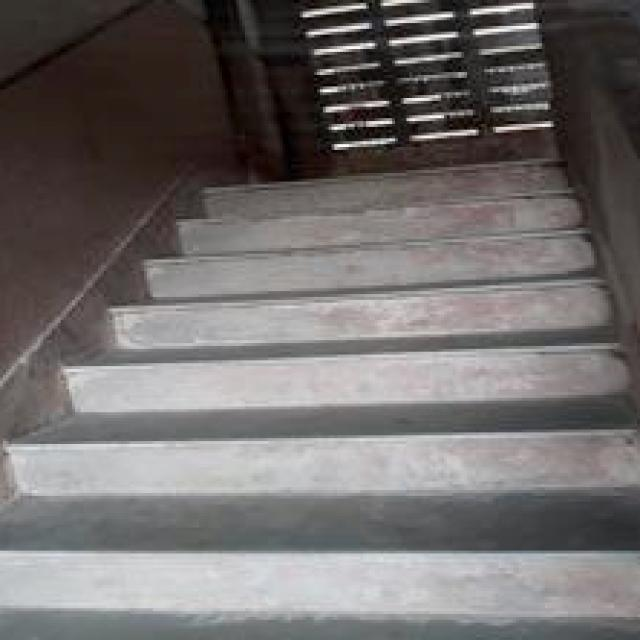upstair: (36, 283, 589, 621)
